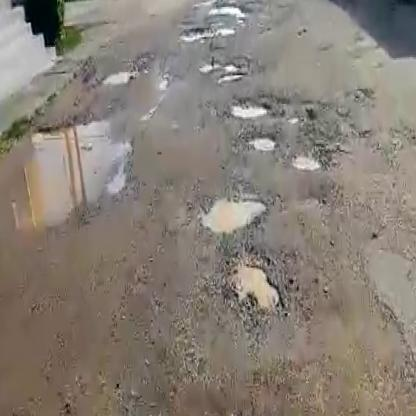pothole: (0, 125, 142, 241), (224, 247, 288, 327), (195, 188, 267, 241), (200, 59, 248, 86), (226, 95, 271, 120), (180, 23, 236, 42), (291, 151, 324, 176), (247, 133, 281, 155), (100, 70, 136, 84)
